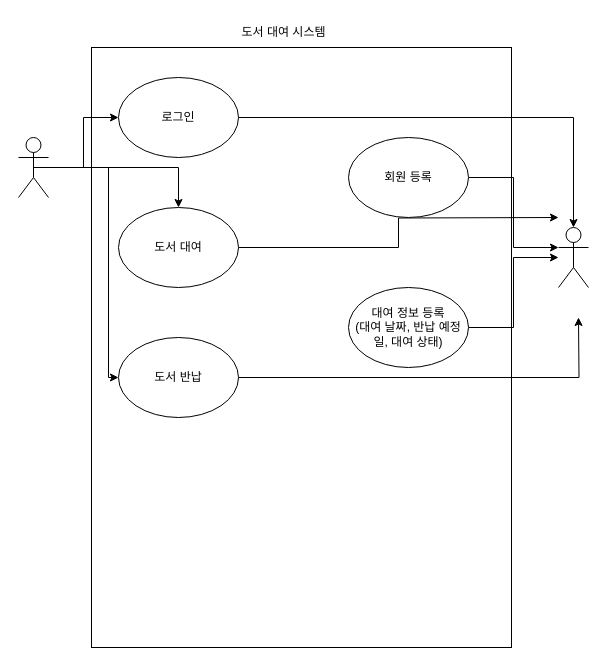
The diagram is 607 pixels wide and 665 high, and some of its shapes have lost their labels. The box of each missing label's shape, as (x1, y1, x2, y2) in pixels:
사용자: (18, 136, 48, 198)
시스템: (558, 226, 588, 288)
